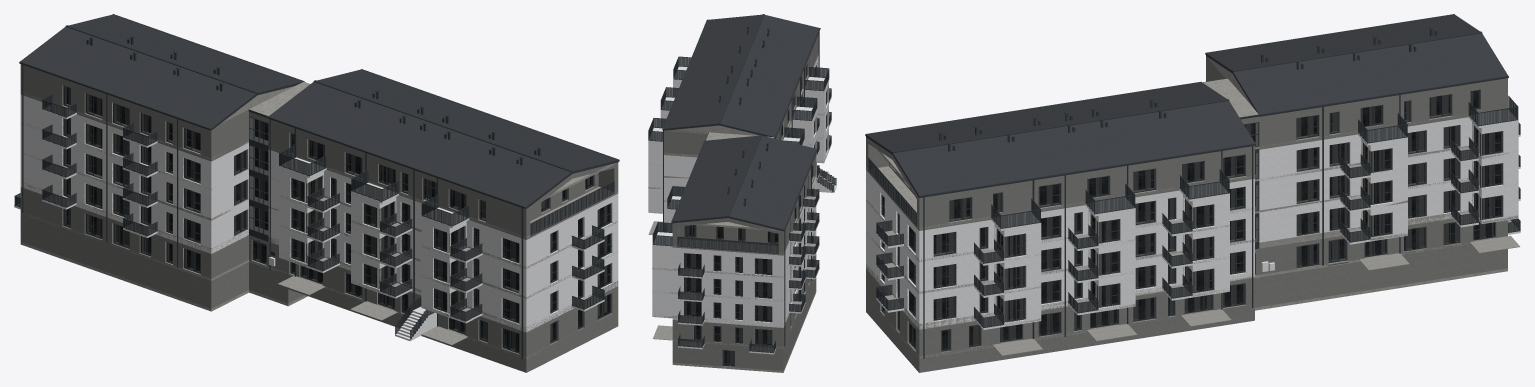
Rendered from verde-ii-so05.glb.
The picture shows the model from 3 angles, left to right: view 1: azimuth 30°, elevation 25°; view 2: azimuth 150°, elevation 25°; view 3: azimuth 270°, elevation 25°; orthographic projection. The views are drawn at different scales.
Parts seen in each view (by area): view 1: F_strecha, F_1NP, F_5NP_blok_omitka_seda, F_3NP_blok_omitka_bila, F_2NP_blok_omitka_bila, F_4NP_blok_omitka_bila, F_1PP, F_strecha_strecha_antracit, F_4NP_interier_interier, F_5NP_zabradli_zabradli_vypln, F_4NP_okna_sklo, F_2NP_interier_interier (+45 smaller); view 2: F_strecha, F_5NP_zabradli_zabradli_vypln, F_5NP_zabradli_antracit, F_1PP, F_4NP_blok_omitka_bila, F_3NP_blok_omitka_bila, F_2NP_blok_omitka_bila, F_5NP_blok_omitka_seda, F_strecha_strecha_antracit, F_4NP_arkyr_omitka_bila, F_1NP, F_5NP_terasa_deska (+48 smaller); view 3: F_strecha, F_1NP, F_5NP_blok_omitka_seda, F_4NP_blok_omitka_bila, F_2NP_blok_omitka_bila, F_3NP_blok_omitka_bila, F_1PP, F_4NP_okna_sklo, F_3NP_okna_sklo, F_2NP_okna_sklo, F_4NP_interier_interier, F_2NP_interier_interier (+42 smaller).
Boxes of the visible parts, left/top/right/bottom form: F_strecha: left=21, top=14, right=617, bottom=206; F_1NP: left=20, top=187, right=618, bottom=372; F_5NP_blok_omitka_seda: left=20, top=64, right=526, bottom=236; F_3NP_blok_omitka_bila: left=20, top=121, right=618, bottom=296; F_2NP_blok_omitka_bila: left=20, top=152, right=618, bottom=326; F_4NP_blok_omitka_bila: left=20, top=94, right=618, bottom=266; F_1PP: left=20, top=212, right=304, bottom=308; F_strecha_strecha_antracit: left=19, top=14, right=619, bottom=208; F_4NP_interier_interier: left=65, top=118, right=609, bottom=261; F_5NP_zabradli_zabradli_vypln: left=42, top=95, right=614, bottom=234; F_4NP_okna_sklo: left=64, top=118, right=609, bottom=262; F_2NP_interier_interier: left=65, top=178, right=609, bottom=322; F_strecha: left=664, top=14, right=818, bottom=229; F_5NP_zabradli_zabradli_vypln: left=648, top=57, right=829, bottom=253; F_5NP_zabradli_antracit: left=648, top=56, right=829, bottom=253; F_1PP: left=672, top=277, right=816, bottom=370; F_4NP_blok_omitka_bila: left=664, top=55, right=818, bottom=276; F_3NP_blok_omitka_bila: left=664, top=177, right=816, bottom=299; F_2NP_blok_omitka_bila: left=664, top=199, right=816, bottom=323; F_5NP_blok_omitka_seda: left=664, top=34, right=818, bottom=252; F_strecha_strecha_antracit: left=662, top=14, right=820, bottom=231; F_4NP_arkyr_omitka_bila: left=648, top=81, right=828, bottom=268; F_1NP: left=664, top=228, right=816, bottom=347; F_5NP_terasa_deska: left=648, top=66, right=829, bottom=247; F_strecha: left=866, top=15, right=1507, bottom=195; F_1NP: left=866, top=218, right=1507, bottom=372; F_5NP_blok_omitka_seda: left=919, top=56, right=1507, bottom=227; F_4NP_blok_omitka_bila: left=866, top=117, right=1471, bottom=259; F_2NP_blok_omitka_bila: left=866, top=178, right=1471, bottom=323; F_3NP_blok_omitka_bila: left=866, top=146, right=1471, bottom=291; F_1PP: left=1255, top=242, right=1507, bottom=307; F_4NP_okna_sklo: left=882, top=126, right=1501, bottom=257; F_3NP_okna_sklo: left=882, top=158, right=1500, bottom=289; F_2NP_okna_sklo: left=882, top=190, right=1501, bottom=321; F_4NP_interier_interier: left=882, top=126, right=1501, bottom=256; F_2NP_interier_interier: left=882, top=190, right=1501, bottom=320.
Bounding box in the file's own units: 39.95 × 21.68 × 60.05.
Materials: 13 (9 with a texture image).
